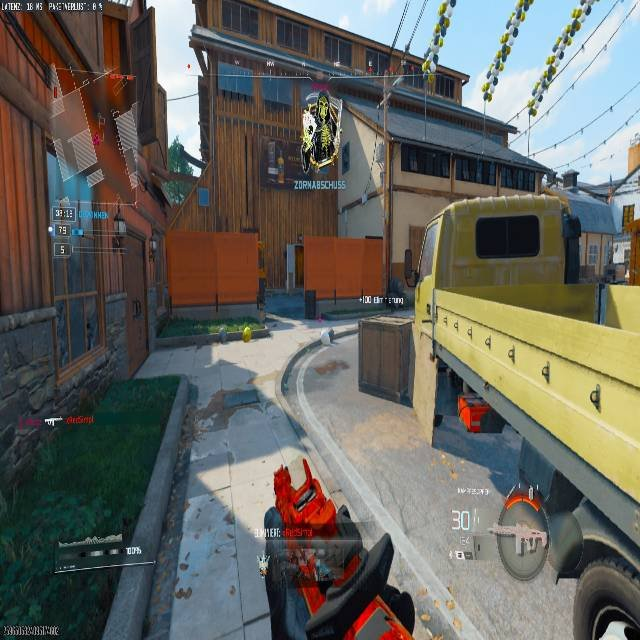head: (273, 464, 296, 504)
player: (259, 451, 414, 640), (300, 86, 340, 175)
